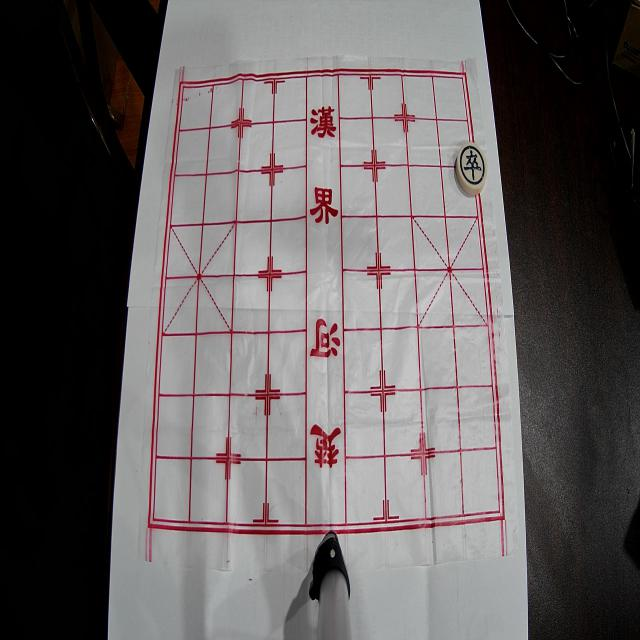black-soldier: (455, 141, 488, 196)
